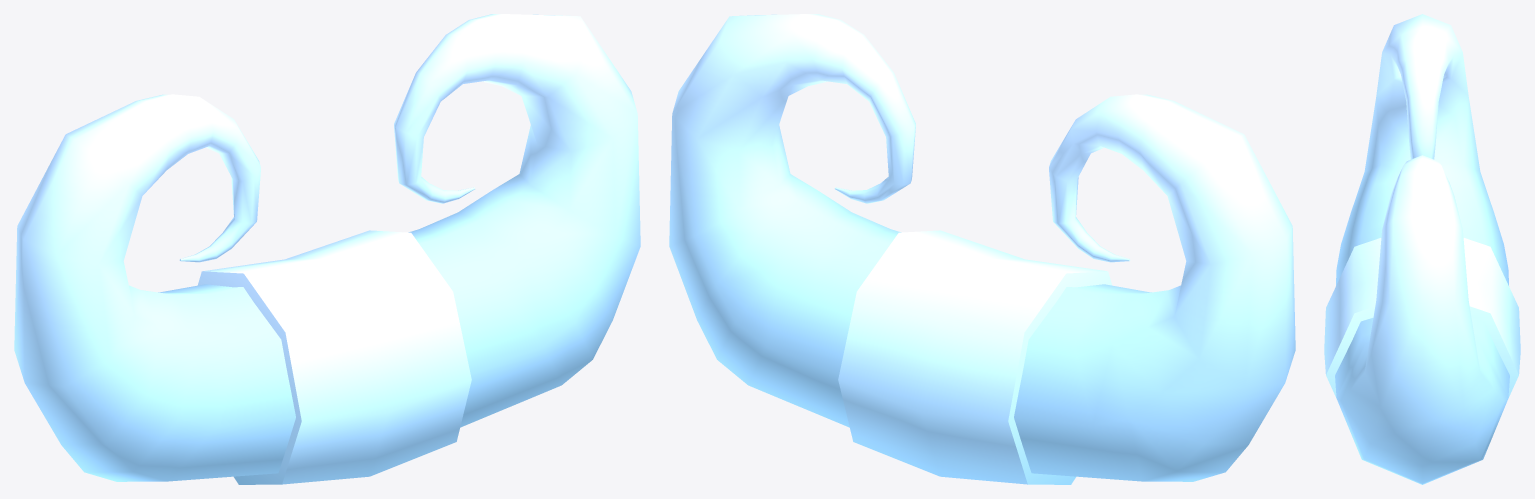
Rendered from steel_guard_050.glb.
3 renders of one model, left to right at view 1: azimuth 30°, elevation 25°; view 2: azimuth 150°, elevation 25°; view 3: azimuth 270°, elevation 25°, orthographic. The views are drawn at different scales.
Parts seen in each view (by area): view 1: steel_guard_050; view 2: steel_guard_050; view 3: steel_guard_050.
Boxes of the visible parts, left/top/right/bottom form: steel_guard_050: left=14, top=14, right=640, bottom=484; steel_guard_050: left=669, top=14, right=1295, bottom=484; steel_guard_050: left=1324, top=14, right=1520, bottom=484.
Bounding box in the file's own units: 5.58 × 3.68 × 1.92.
1 material, 1 textured.
